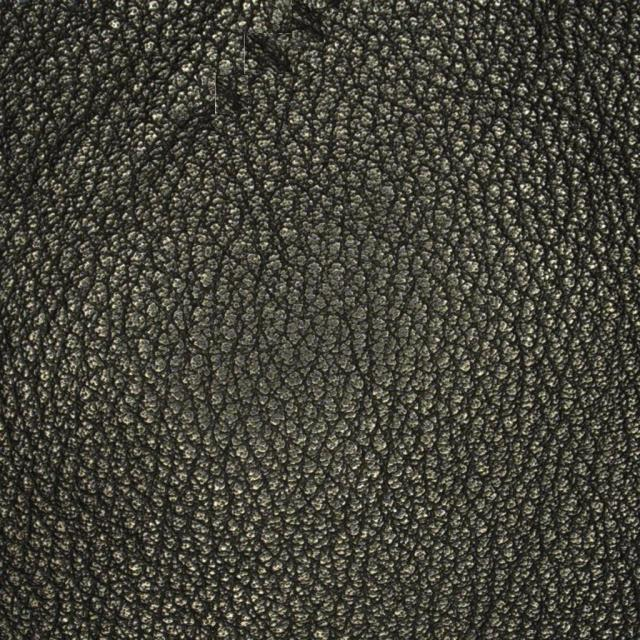Healed Injury: (21, 61, 175, 314), (192, 12, 356, 173)
